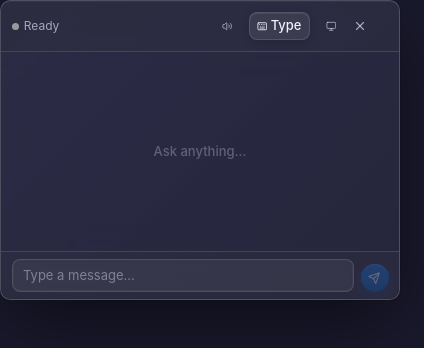
CompactChat › shows PTT mode VoiceButton when mode is PTT
The width and height of the screenshot is (424, 348).
Step 1. Click the button with aria-label "Switch mode" → point(279, 26), box top-left (249, 12), bottom-right (310, 40)
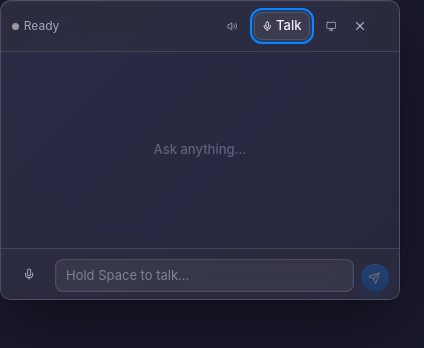
Expected: the button named "Start recording" is shown, top-left (12, 256), bottom-right (48, 292)
